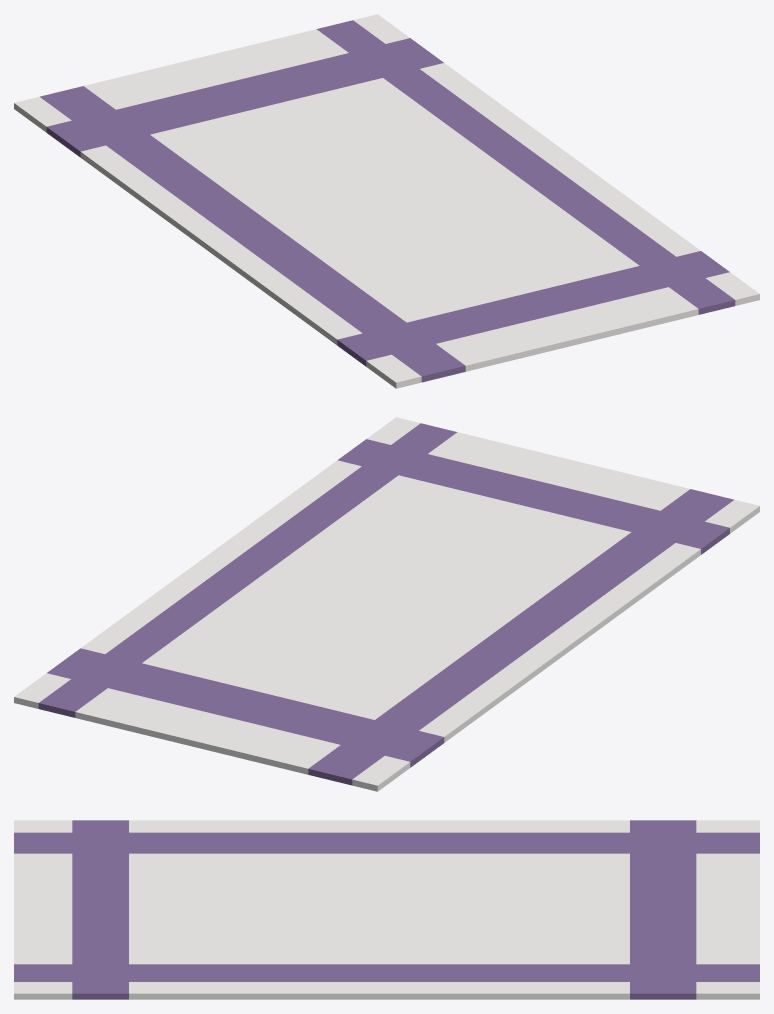
The model's file is Isl_11_Beach_Towel_3.fbx.
3 renders of one model, top to bottom at view 1: azimuth 30°, elevation 25°; view 2: azimuth 150°, elevation 25°; view 3: azimuth 270°, elevation 25°, orthographic. The views are drawn at different scales.
Parts seen in each view (by area): view 1: Isl_11_Beach_Towel_3; view 2: Isl_11_Beach_Towel_3; view 3: Isl_11_Beach_Towel_3.
Part boxes in pixels (x1,y1,x2,y2): Isl_11_Beach_Towel_3: [14, 14, 759, 388]; Isl_11_Beach_Towel_3: [14, 417, 759, 791]; Isl_11_Beach_Towel_3: [14, 820, 759, 999].
Size of the model in its own units: 117 by 214 by 1.87.
1 material, 1 textured.
